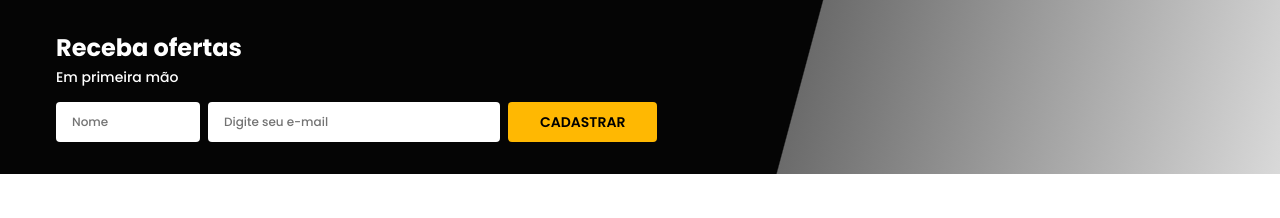
Test: NewsletterForm › mostra um erro quando o e-mail é inválido
This screenshot has width=1280, height=218.
Type "Ana" into the field labelled "Nome" at (128, 122), box [56,102,200,142]
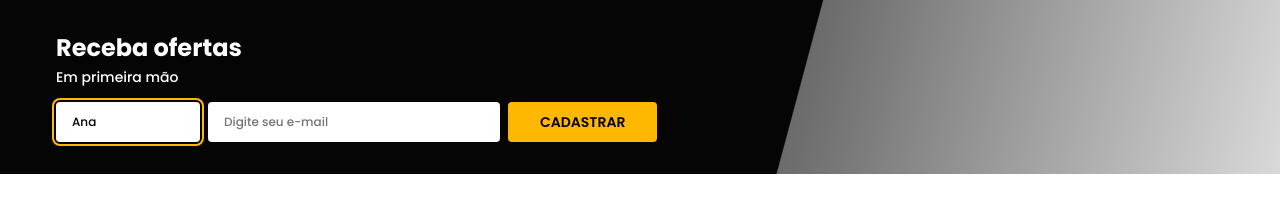
Type "ana@" into the field labelled "e-mail" at (354, 122), box [208,102,500,142]
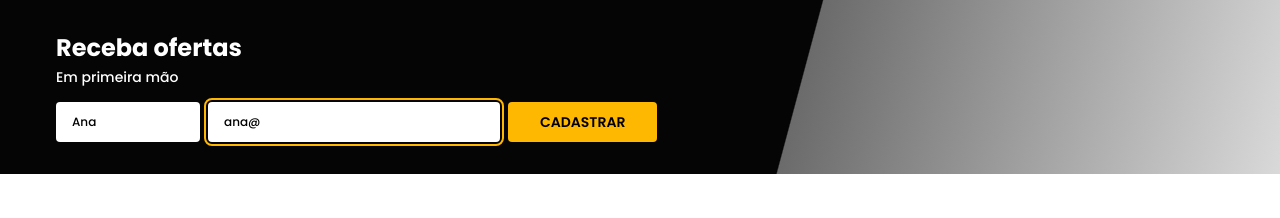
Click the button "Cadastrar" at (583, 122), box [508,102,657,142]
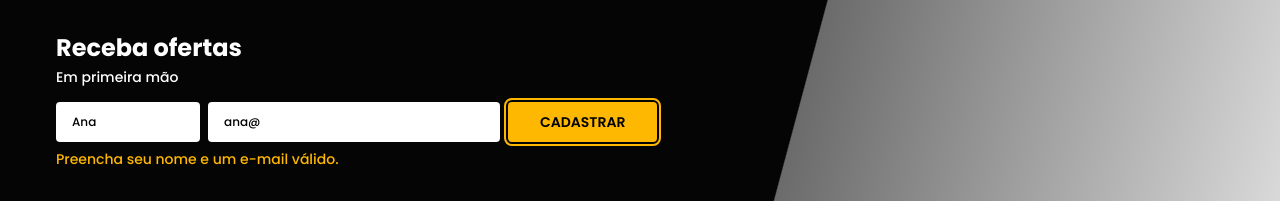
Check: the message reads "Preencha seu nome e um e-mail válido.", box [56,149,339,169]
